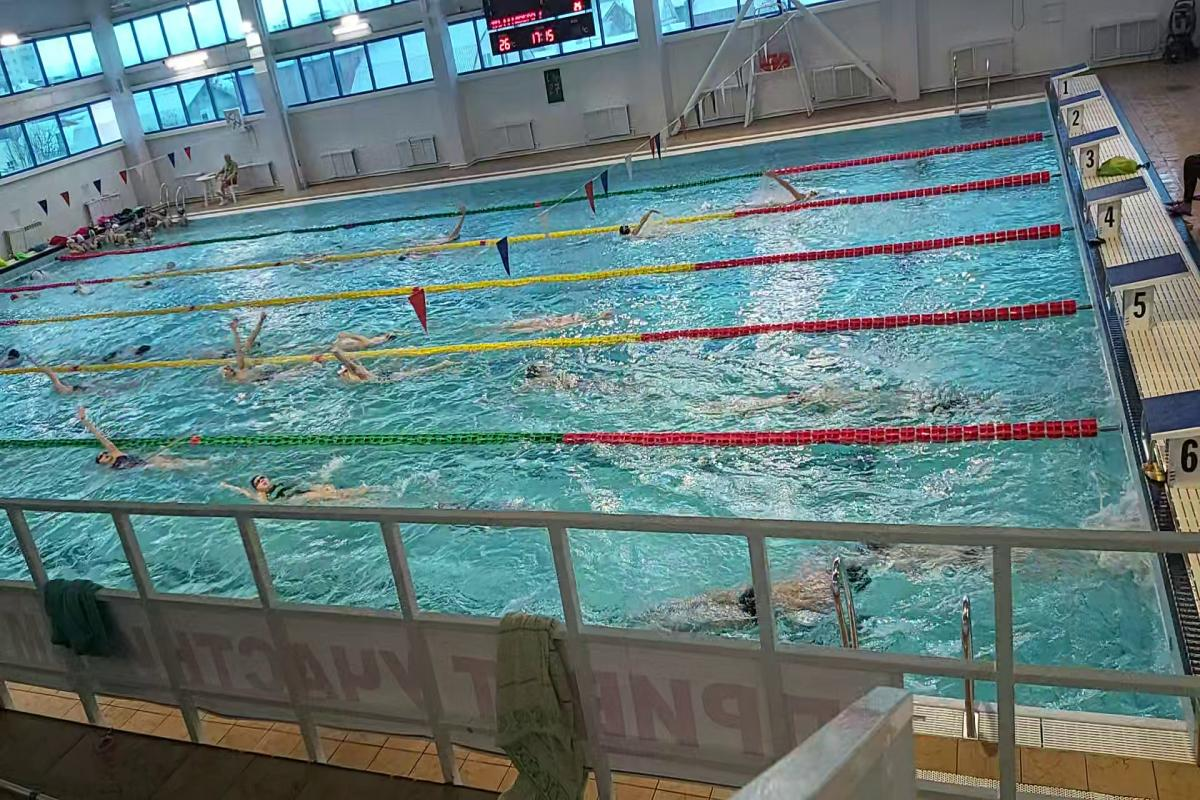swimmer: (58, 412, 204, 477), (214, 463, 381, 504), (775, 555, 868, 626), (686, 379, 873, 414), (521, 358, 634, 405), (323, 348, 458, 387), (871, 542, 994, 584), (209, 353, 310, 387), (28, 354, 94, 398), (500, 308, 620, 332), (320, 318, 403, 349), (760, 167, 822, 200), (612, 204, 662, 242), (432, 206, 476, 242), (101, 338, 153, 360)
